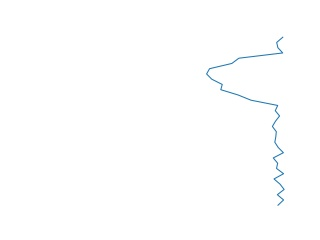distalBar: (202, 35, 290, 207)
